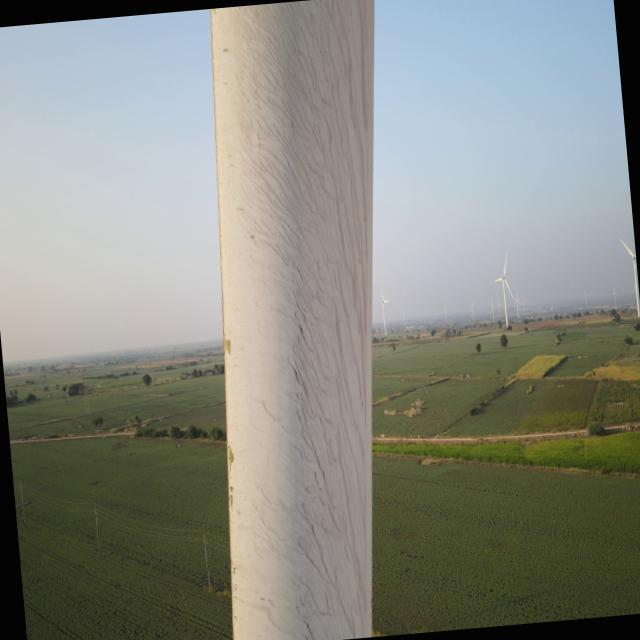Dirt: (231, 0, 377, 640)
